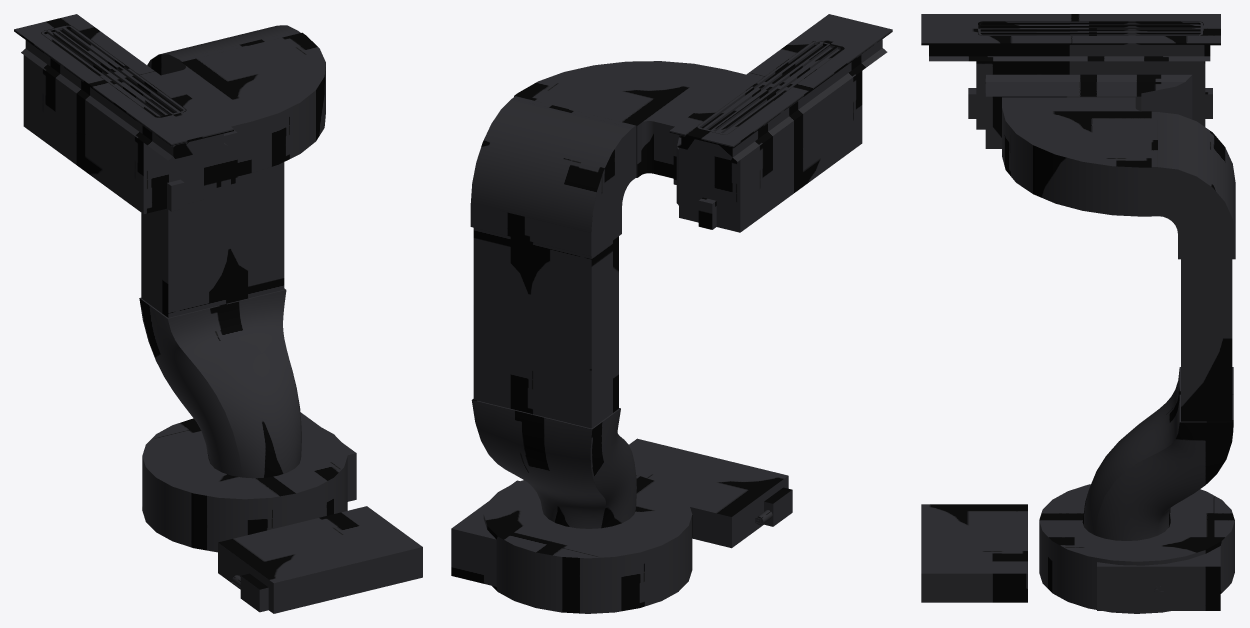
The model's file is CSDA_7001_FL.fbx.
3 views of the same model, side by side, from view 1: azimuth 30°, elevation 25°; view 2: azimuth 150°, elevation 25°; view 3: azimuth 270°, elevation 25° (orthographic). The views are drawn at different scales.
Visible parts, largest first — view 1: 11402480_NER_CSDA7001FL 27700150_NER_11402480_CSDA7001F_6aa9; view 2: 11402480_NER_CSDA7001FL 27700150_NER_11402480_CSDA7001F_6aa9; view 3: 11402480_NER_CSDA7001FL 27700150_NER_11402480_CSDA7001F_6aa9.
Part boxes in pixels (<box>): 11402480_NER_CSDA7001FL 27700150_NER_11402480_CSDA7001F_6aa9: <box>14,14,422,613</box>; 11402480_NER_CSDA7001FL 27700150_NER_11402480_CSDA7001F_6aa9: <box>451,14,892,613</box>; 11402480_NER_CSDA7001FL 27700150_NER_11402480_CSDA7001F_6aa9: <box>921,14,1235,613</box>.
Bounding box in the file's own units: 0.5329 × 0.904 × 0.5455.
1 material, 1 textured.
